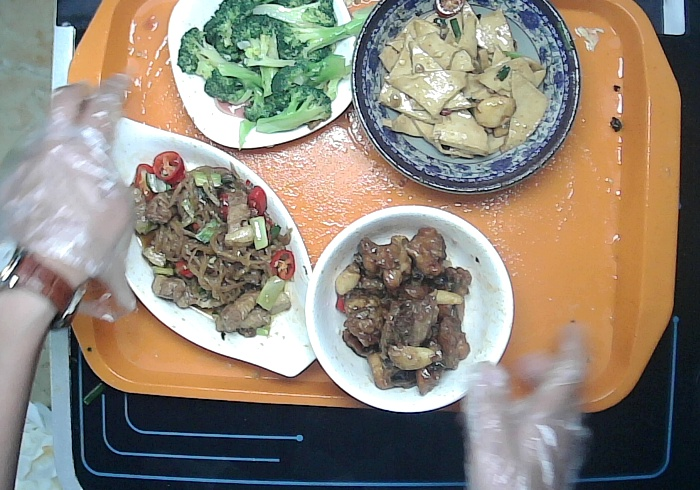ZNLD-Qing_Hua_Wan: (352, 5, 582, 190)
ZNLD-Si_Fang_Wan: (164, 1, 361, 150)
ZNLD-Tang_Wan: (307, 206, 513, 415)
ZNLD-Yu_Pan: (99, 116, 320, 381)
